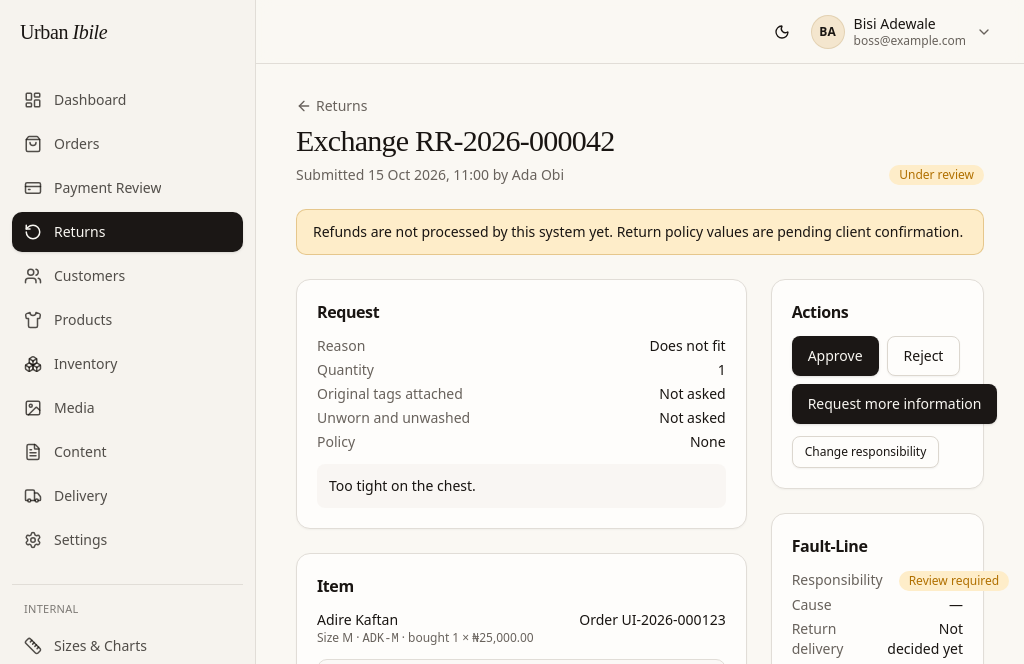
it: return review › explains a status conflict with a reload option
Click the button "Approve" at {"x": 835, "y": 356}, box [792,336,879,376]
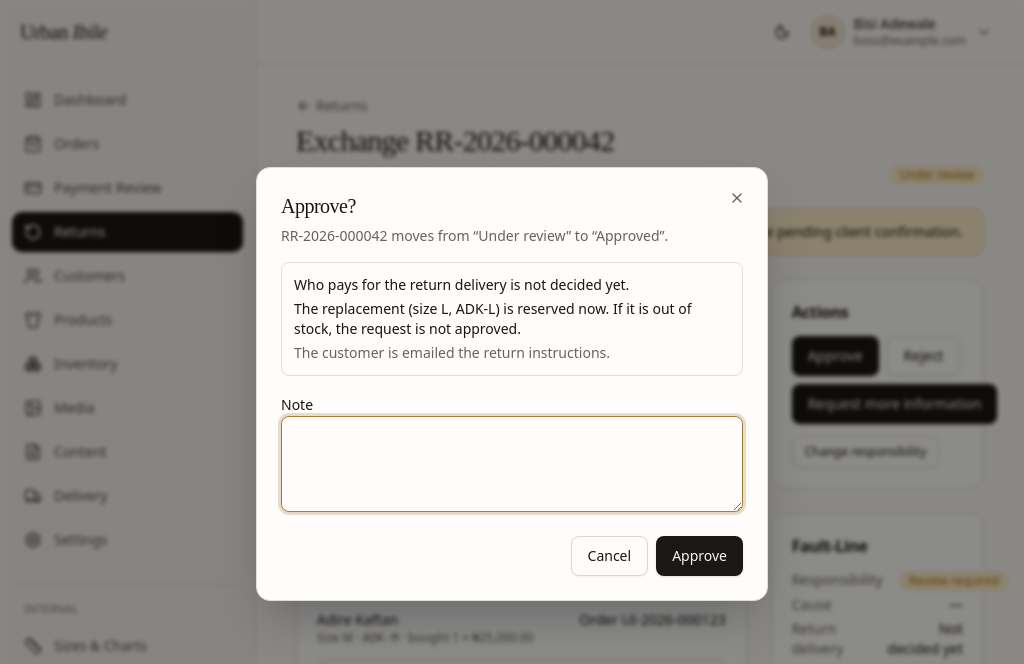
Click the button "Approve" at {"x": 700, "y": 556}, box [656,536,743,576]
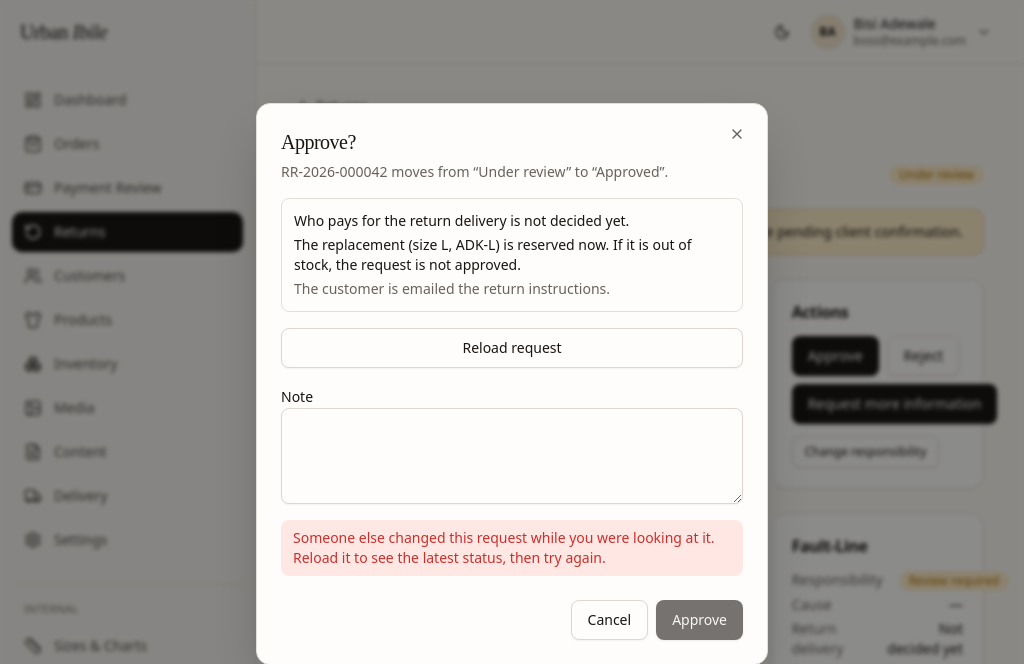
Expected: the message shows "Someone else changed this request", [293,528,715,567]
Expected: the button "Reload request" is shown, [281,328,743,368]
